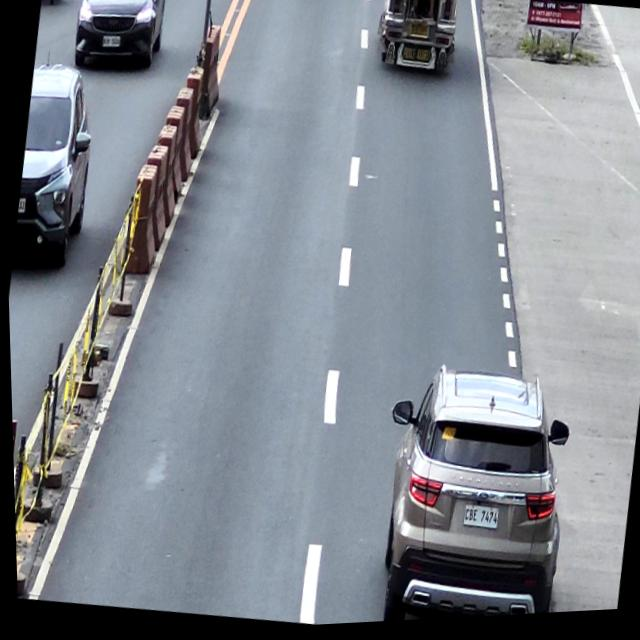Car: (357, 357, 580, 626), (6, 53, 105, 272), (69, 0, 172, 77)
Jeep: (371, 0, 462, 82)
License-Plate: (457, 505, 498, 537), (409, 26, 430, 42), (101, 35, 122, 50), (17, 196, 26, 215)
